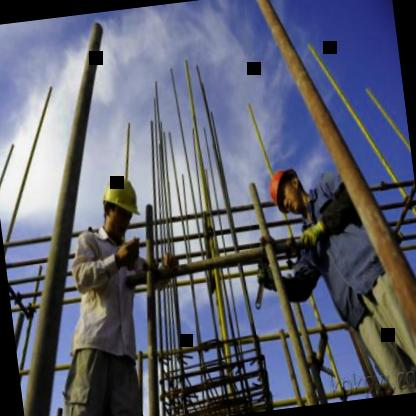helmet: (97, 174, 143, 244), (264, 164, 310, 217)
